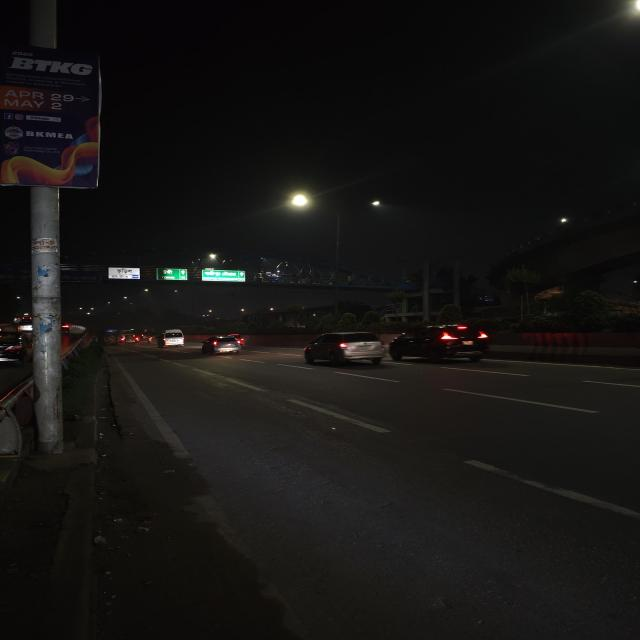car: (294, 325, 379, 373), (392, 322, 492, 358), (200, 329, 248, 360), (152, 328, 187, 350)
